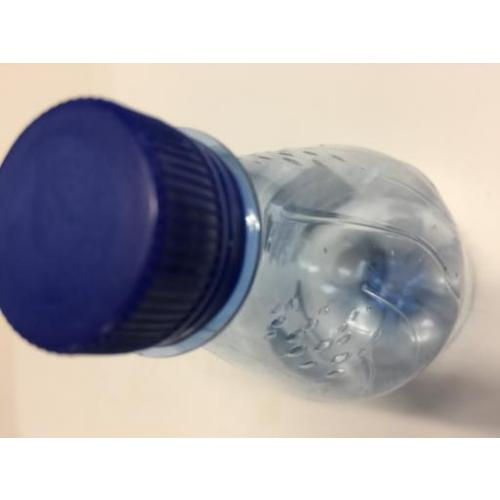plastic: (0, 99, 455, 402)
